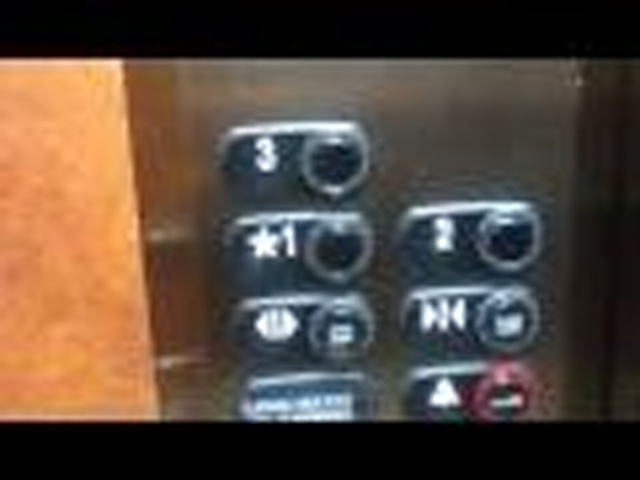2: (397, 199, 544, 275)
3: (219, 119, 373, 203)
alarm: (403, 363, 536, 424)
close: (398, 288, 540, 356)
open: (228, 290, 374, 362)
s1: (222, 212, 374, 283)
